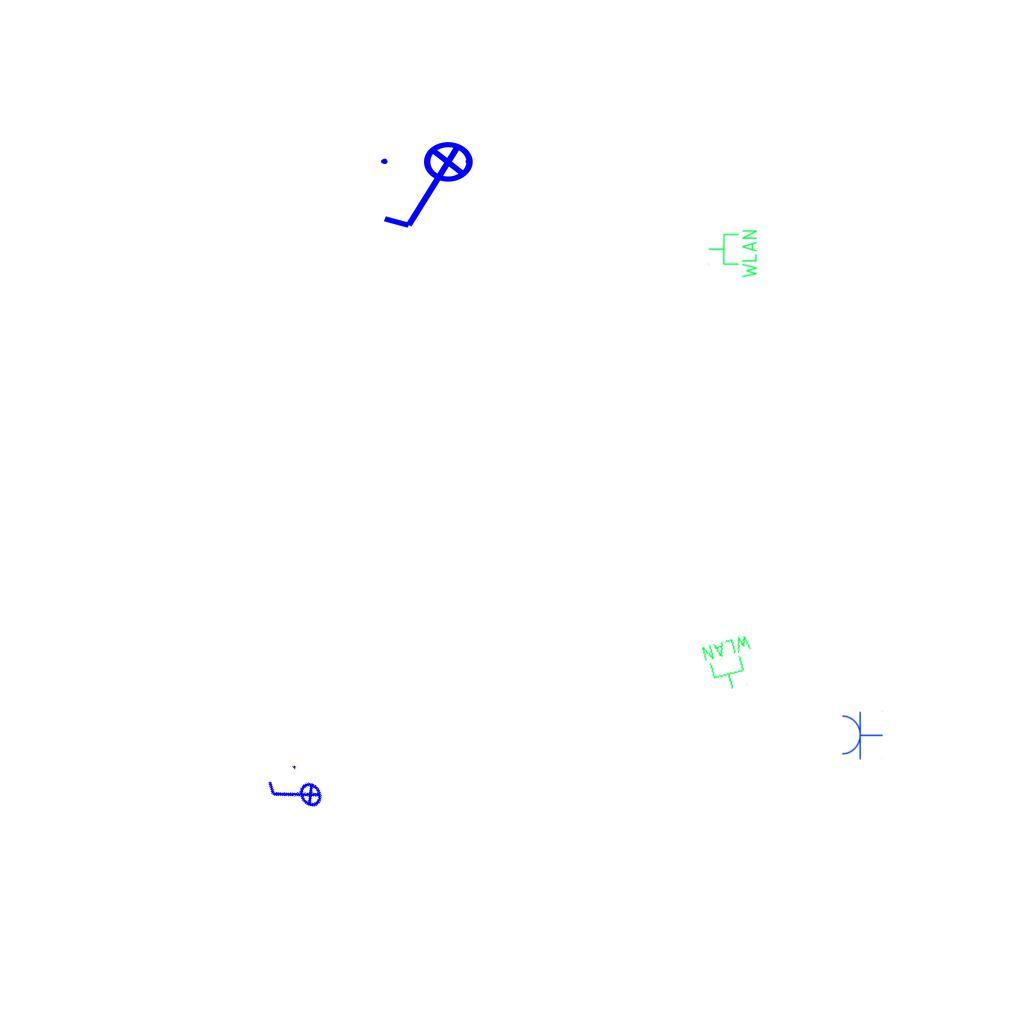Ausschalter_beleuchtet: (375, 140, 487, 236), (260, 757, 330, 831)
Schukosteckdose_einfach: (840, 710, 883, 760)
WLAN: (699, 632, 763, 696), (707, 228, 759, 280)
